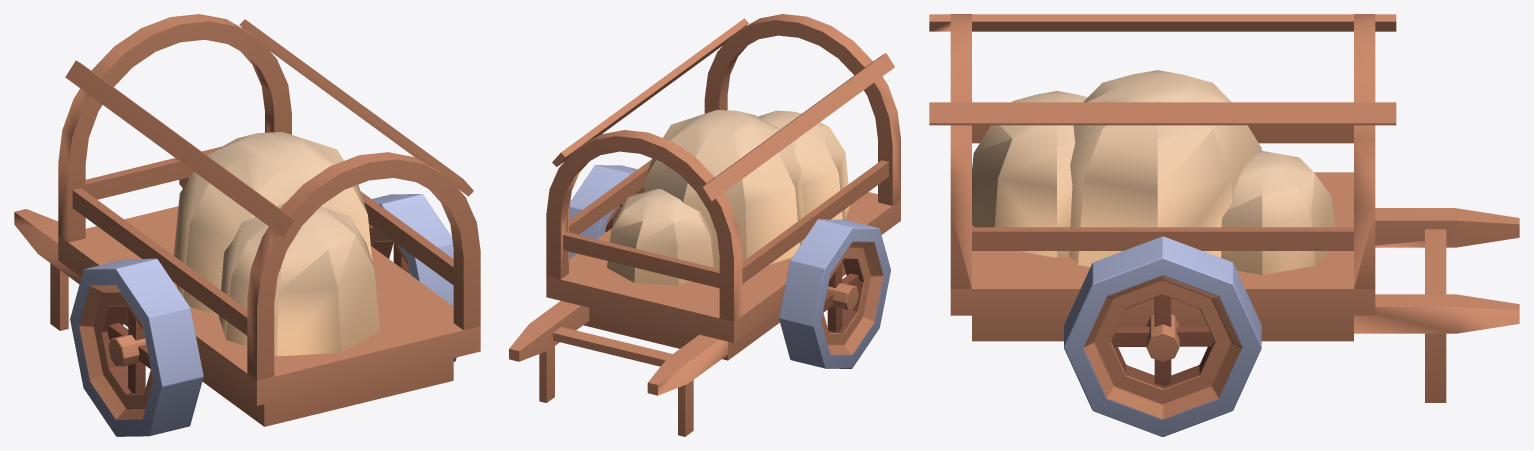
The model's file is kenney-fantasy-town__cart-high.glb.
The picture shows the model from 3 angles, left to right: view 1: azimuth 30°, elevation 25°; view 2: azimuth 150°, elevation 25°; view 3: azimuth 270°, elevation 25°; orthographic projection. The views are drawn at different scales.
Visible parts, largest first — view 1: cart-high, Group, Group.001; view 2: cart-high, Group, Group.001; view 3: cart-high, Group.001.
Part boxes in pixels (box(x1,y1,x2,y2)): cart-high: box(14, 14, 480, 426); Group: box(70, 258, 203, 436); Group.001: box(368, 194, 456, 361); cart-high: box(509, 14, 900, 436); Group: box(779, 219, 890, 368); Group.001: box(569, 165, 644, 259); cart-high: box(929, 14, 1519, 402); Group.001: box(1064, 236, 1261, 436).
Size of the model in its own units: 0.893 by 0.8605 by 1.39.
Materials: 1 (1 with a texture image).
